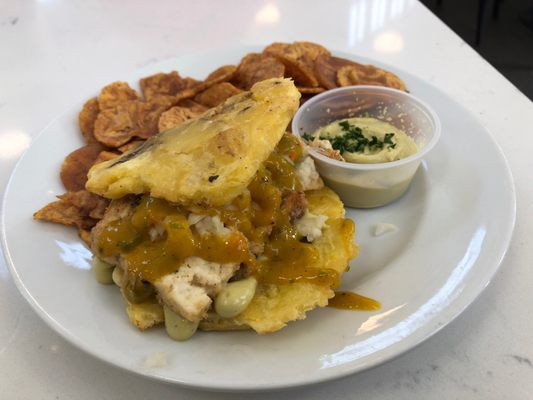sushi: (291, 85, 443, 210)
